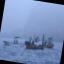fishing boat: (22, 31, 48, 54), (0, 30, 26, 50)
